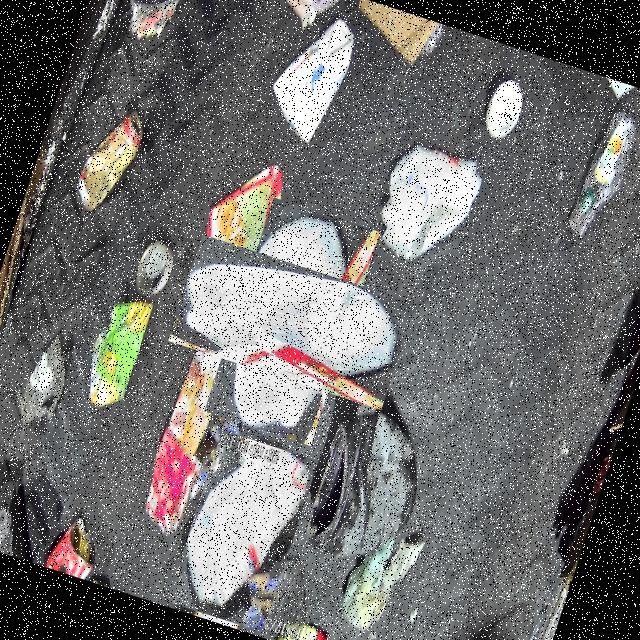milk-jug: (185, 214, 398, 427), (164, 428, 317, 632)
